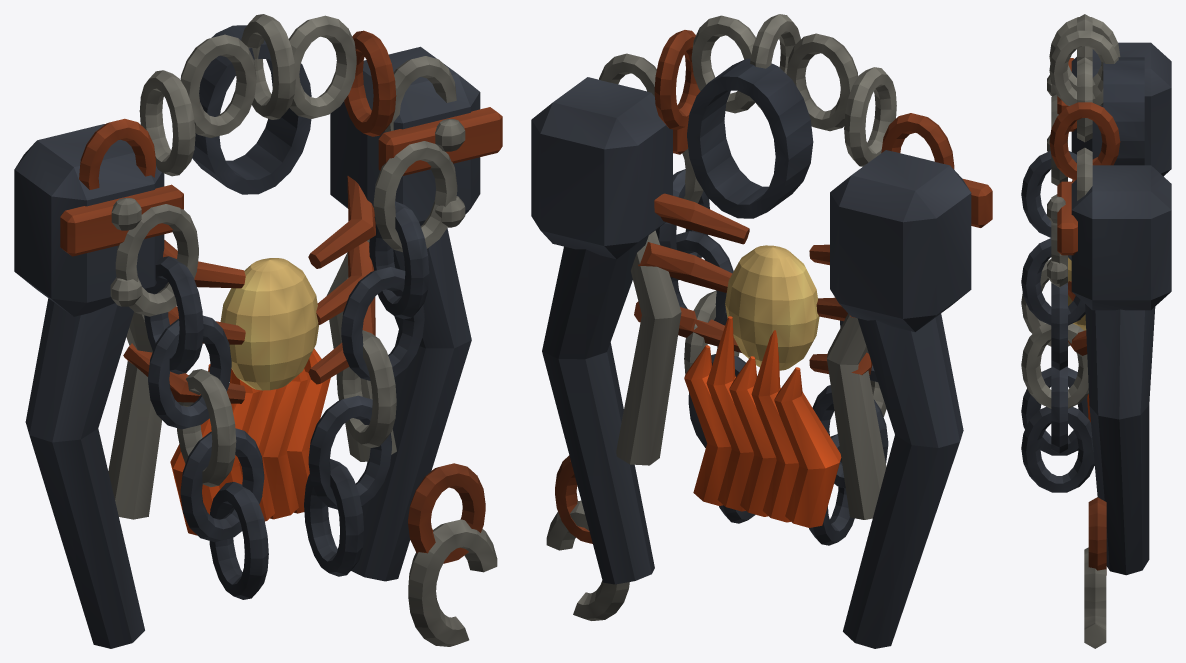
Rendered from soul_chains.fbx.
3 renders of one model, left to right at view 1: azimuth 30°, elevation 25°; view 2: azimuth 150°, elevation 25°; view 3: azimuth 270°, elevation 25°, orthographic. The views are drawn at different scales.
Parts seen in each view (by area): view 1: soul_chains; view 2: soul_chains; view 3: soul_chains.
Part boxes in pixels (x1,y1,x2,y2): soul_chains: [14, 14, 502, 648]; soul_chains: [531, 14, 992, 648]; soul_chains: [1021, 14, 1171, 648].
Bounding box in the file's own units: 6.61 × 9.5 × 2.4.
